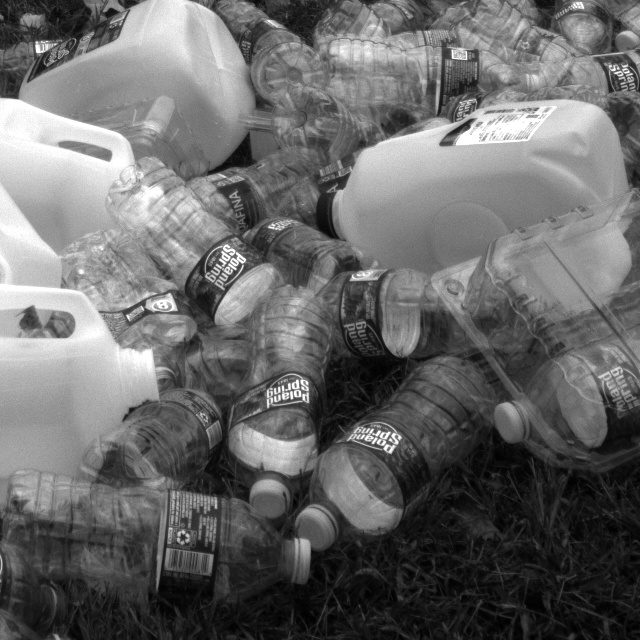bottle: (0, 433, 351, 627), (264, 328, 513, 546), (205, 253, 349, 512), (112, 143, 284, 332), (294, 252, 558, 369), (63, 212, 224, 401), (469, 283, 640, 448), (291, 15, 541, 115), (289, 24, 518, 113), (410, 0, 598, 93)
can: (311, 88, 624, 303), (0, 2, 274, 170), (0, 78, 193, 310), (0, 264, 153, 515), (0, 142, 87, 352)
container: (436, 171, 640, 498), (62, 75, 243, 224)
